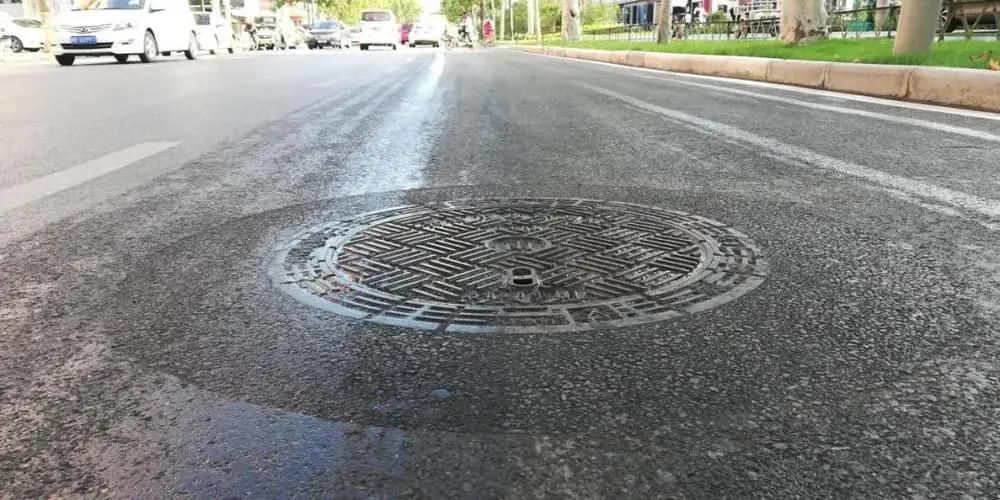wellcover: (273, 182, 770, 343)
